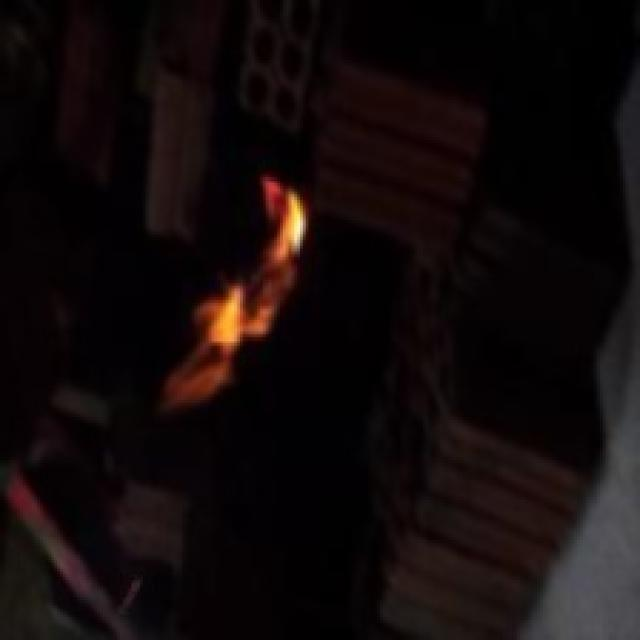fire: (129, 160, 337, 457)
